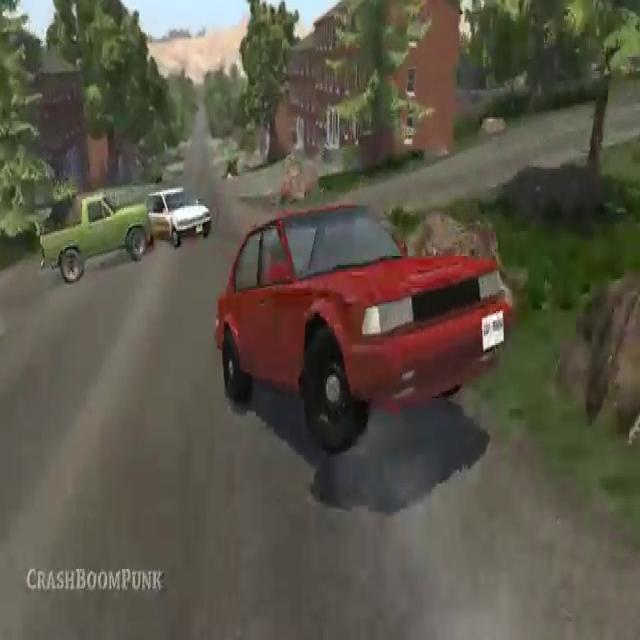moderate: (33, 160, 213, 284)
